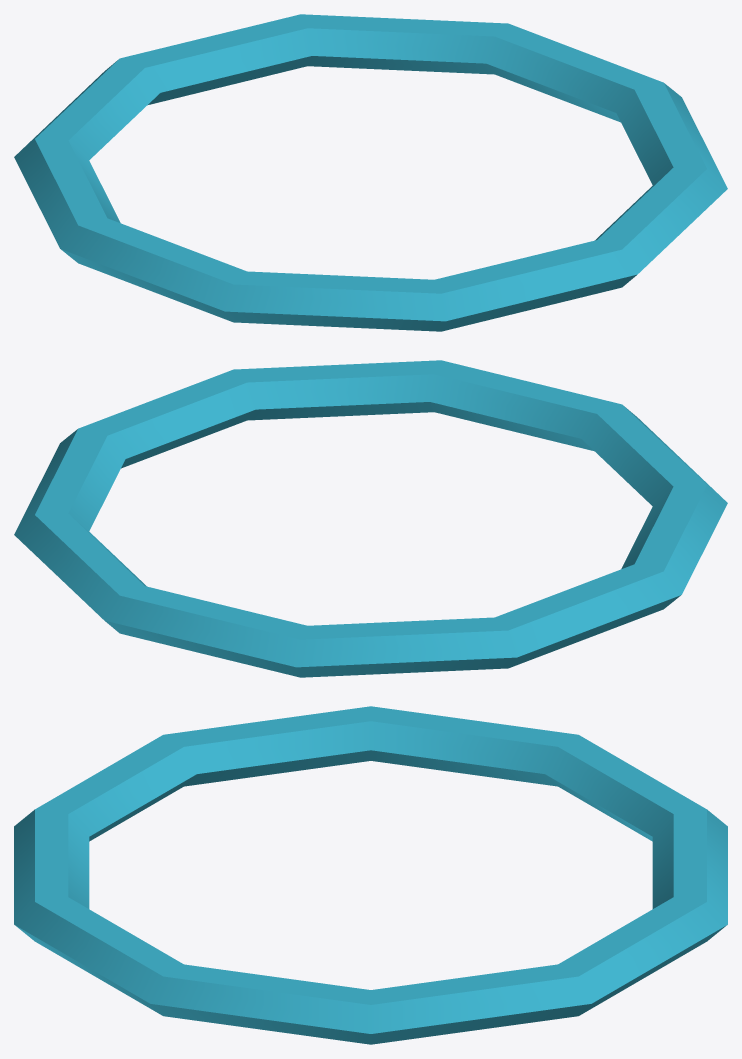
3 views of the same model, one above another, from view 1: azimuth 30°, elevation 25°; view 2: azimuth 150°, elevation 25°; view 3: azimuth 270°, elevation 25° (orthographic). The views are drawn at different scales.
Parts seen in each view (by area): view 1: circle; view 2: circle; view 3: circle.
Part boxes in pixels (x1=…): circle: x1=14, y1=14, x2=727, y2=331; circle: x1=14, y1=360, x2=727, y2=677; circle: x1=14, y1=706, x2=727, y2=1044.
Bounding box in the file's own units: 370 × 21.58 × 352.
